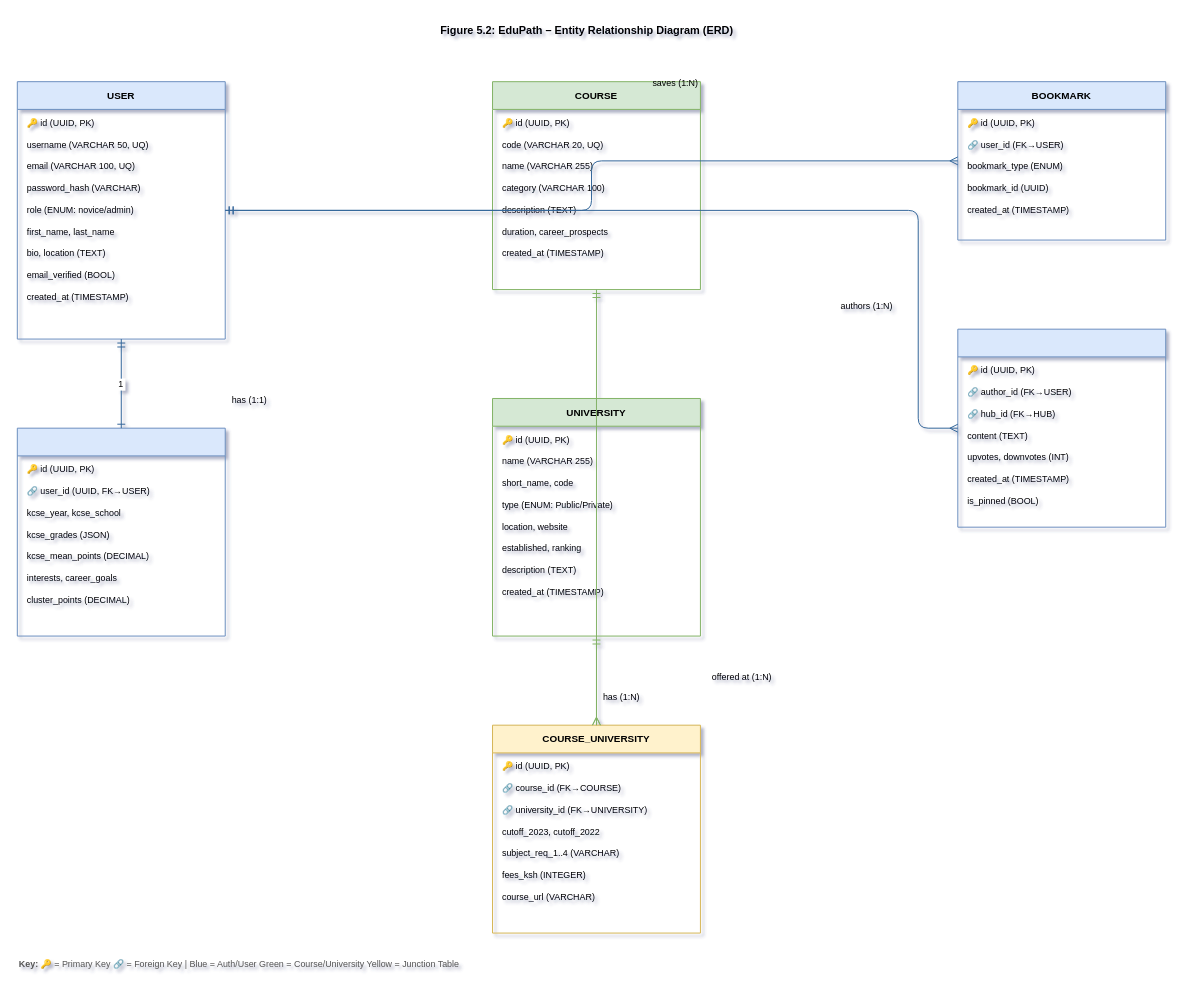
The diagram is 1189 pixels wide and 1000 high, and some of its shapes have lost their labels. The shapes that lost their labels are listed below. From the top down, each one's box as (x1, y1, x2, y2) in pixels, then its label:
(957, 328, 1166, 527): HUB_POST
(16, 427, 225, 636): ACADEMIC_PROFILE
